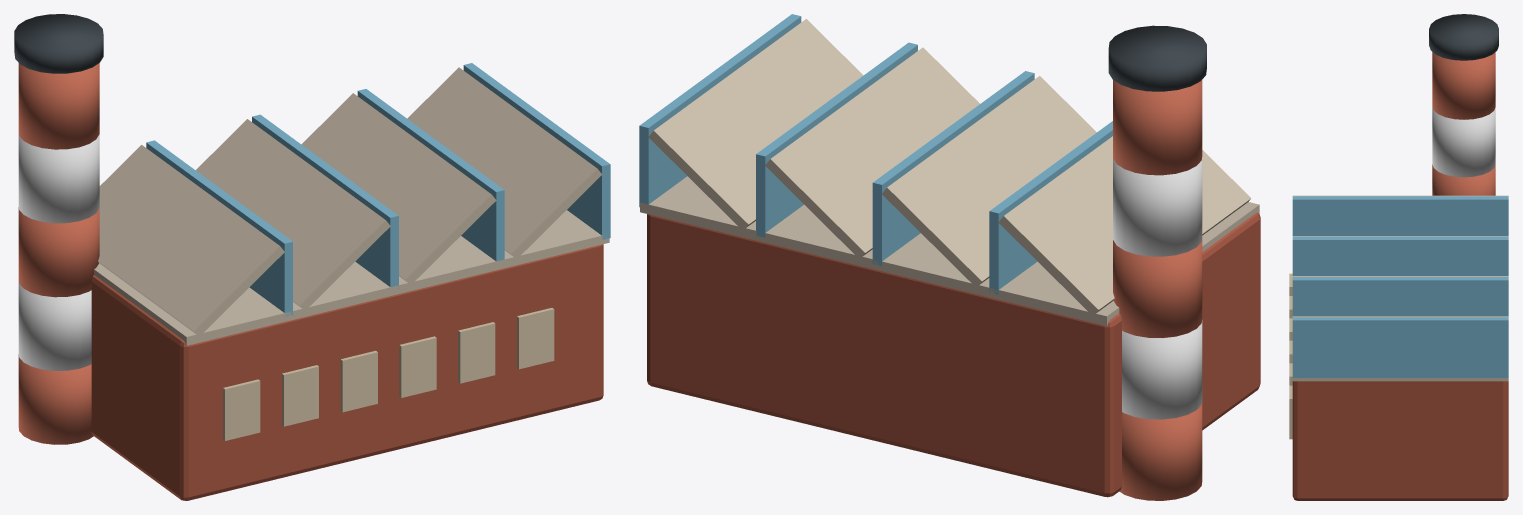
3 views of the same model, side by side, from view 1: azimuth 30°, elevation 25°; view 2: azimuth 150°, elevation 25°; view 3: azimuth 270°, elevation 25° (orthographic). The views are drawn at different scales.
Parts seen in each view (by area): view 1: lm_08; view 2: lm_08; view 3: lm_08.
Boxes of the visible parts, bbox=[...] form: lm_08: bbox=[14, 14, 610, 500]; lm_08: bbox=[639, 14, 1260, 500]; lm_08: bbox=[1289, 14, 1508, 500].
Bounding box in the file's own units: 0.681 × 0.535 × 0.345.
